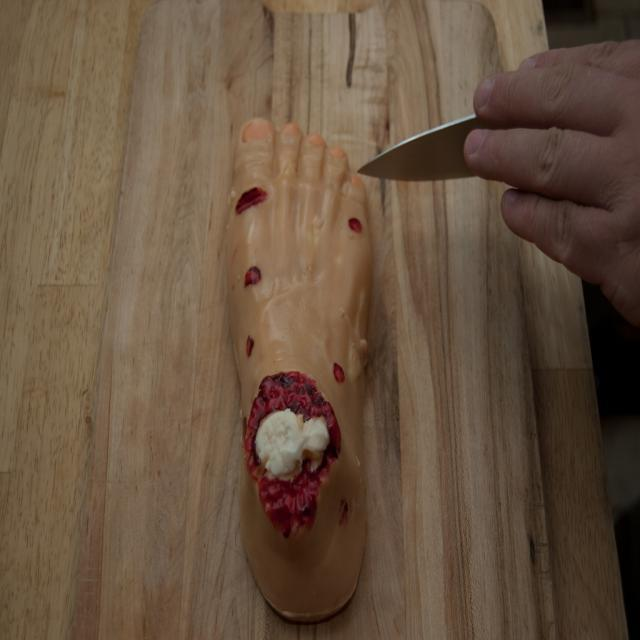Knife: (359, 114, 480, 181)
